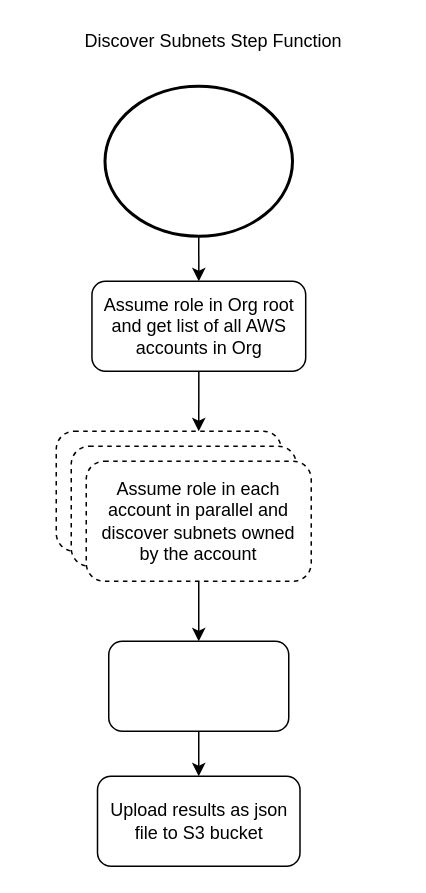
Some shapes in this 426 by 893 pixel diagram are drawn without their labels. The centre of each missing label's shape, as x and y in pixels:
Collect all subnet results and build graph data with no links: the point at 198,685
start execution of carve discovery step function: the point at 198,160
